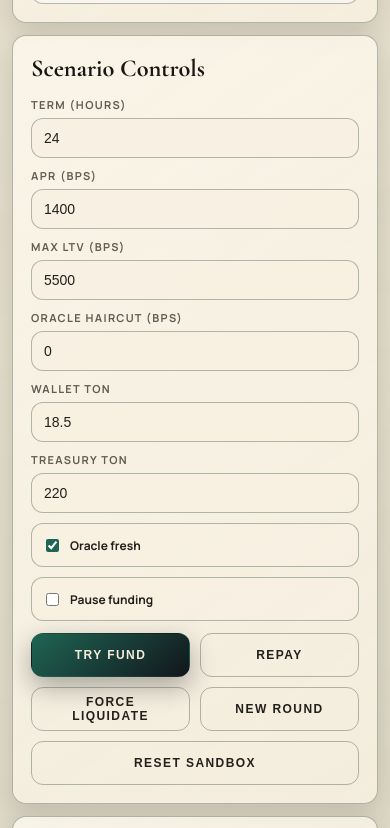
Scenario: demo sandbox: blocks repay when wallet is insufficient
(page scrolled)
Step 1. Replace the text in the number field labelled "Wallet TON" with "0" → (195, 422), box [31, 402, 359, 442]
(page scrolled)
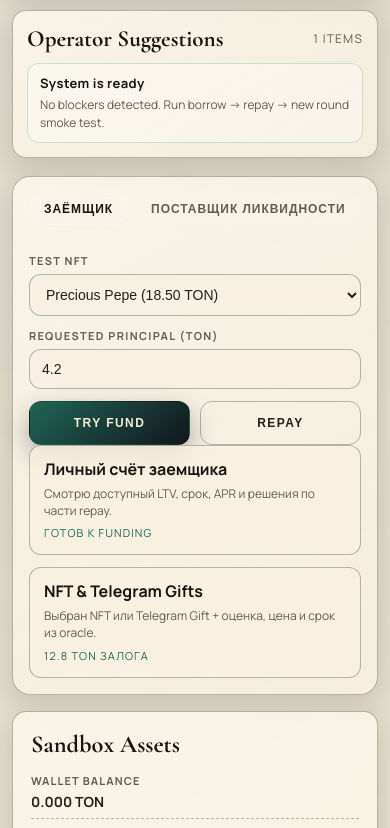
Step 2. Click the button "TRY FUND" → (110, 423), box [29, 401, 190, 445]
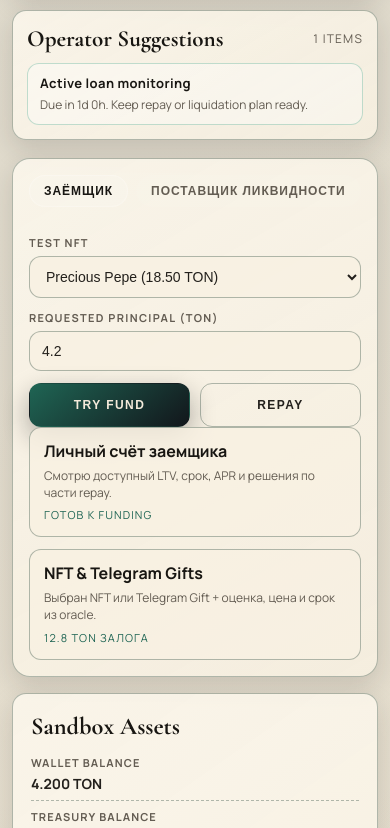
Step 3. Click the button "REPAY" → (280, 405), box [200, 383, 361, 427]
(page scrolled)
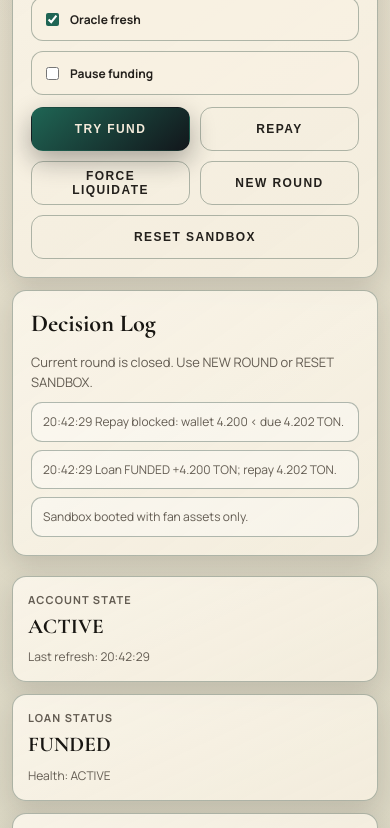
Check: the list item "20:42:29 Repay blocked: wallet 4.200 < due 4.202 TON." is shown, box [31, 402, 359, 442]
